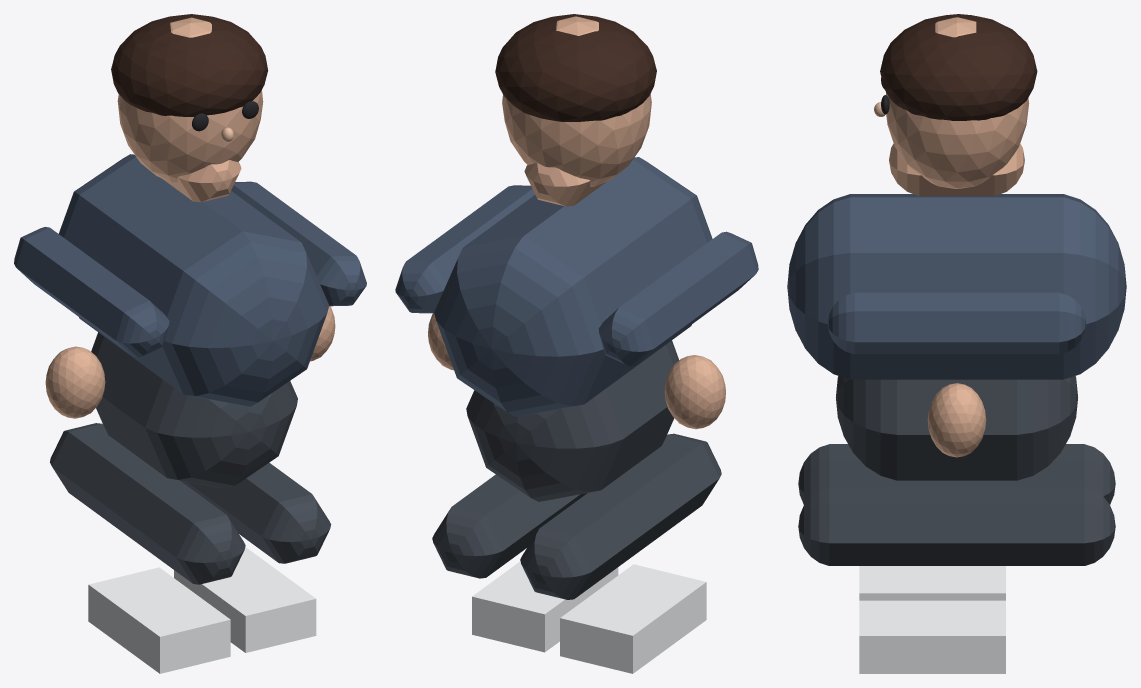
File: player.glb
3 views of the same model, side by side, from view 1: azimuth 30°, elevation 25°; view 2: azimuth 150°, elevation 25°; view 3: azimuth 270°, elevation 25° (orthographic). The views are drawn at different scales.
Visible parts, largest first — view 1: torso_5, hips_4, leg_2, hair_8, shoe_0, arm_9, head_7, leg_3, shoe_1, arm_11, hand_10, neck_6 (+1 smaller); view 2: torso_5, hips_4, leg_2, hair_8, shoe_0, arm_9, head_7, leg_3, shoe_1, arm_11, hand_10, neck_6 (+1 smaller); view 3: torso_5, leg_3, hips_4, arm_11, hair_8, shoe_1, head_7, leg_2, shoe_0, hand_12, neck_6.
Part boxes in pixels (x1,y1,x2,y2): torso_5: (58,154,329,406); hips_4: (91,332,297,489); leg_2: (50,423,245,584); hair_8: (111,14,268,116); shoe_0: (88,567,230,673); arm_9: (14,227,169,357); head_7: (117,17,263,183); leg_3: (180,462,331,563); shoe_1: (174,547,316,652); arm_11: (231,181,366,306); hand_10: (45,346,105,418); neck_6: (161,160,241,202); torso_5: (434,157,712,416); hips_4: (466,340,678,501); leg_2: (520,433,721,599); hair_8: (495,14,656,121); shoe_0: (560,564,706,673); arm_9: (598,231,758,366); head_7: (502,16,651,186); leg_3: (432,474,587,578); shoe_1: (472,561,618,652); arm_11: (395,185,534,313); hand_10: (664,355,725,429); neck_6: (524,163,605,206); torso_5: (787,194,1126,379); leg_3: (798,487,1115,565); hips_4: (836,376,1077,480); arm_11: (828,292,1085,354); hair_8: (880,14,1037,120); shoe_1: (859,600,1005,673); head_7: (886,17,1029,188); leg_2: (798,444,1115,504); shoe_0: (859,566,1005,600); hand_12: (927,383,986,457); neck_6: (889,143,1024,196).
Bounding box in the file's own units: 0.9585 × 1.93 × 0.972.
